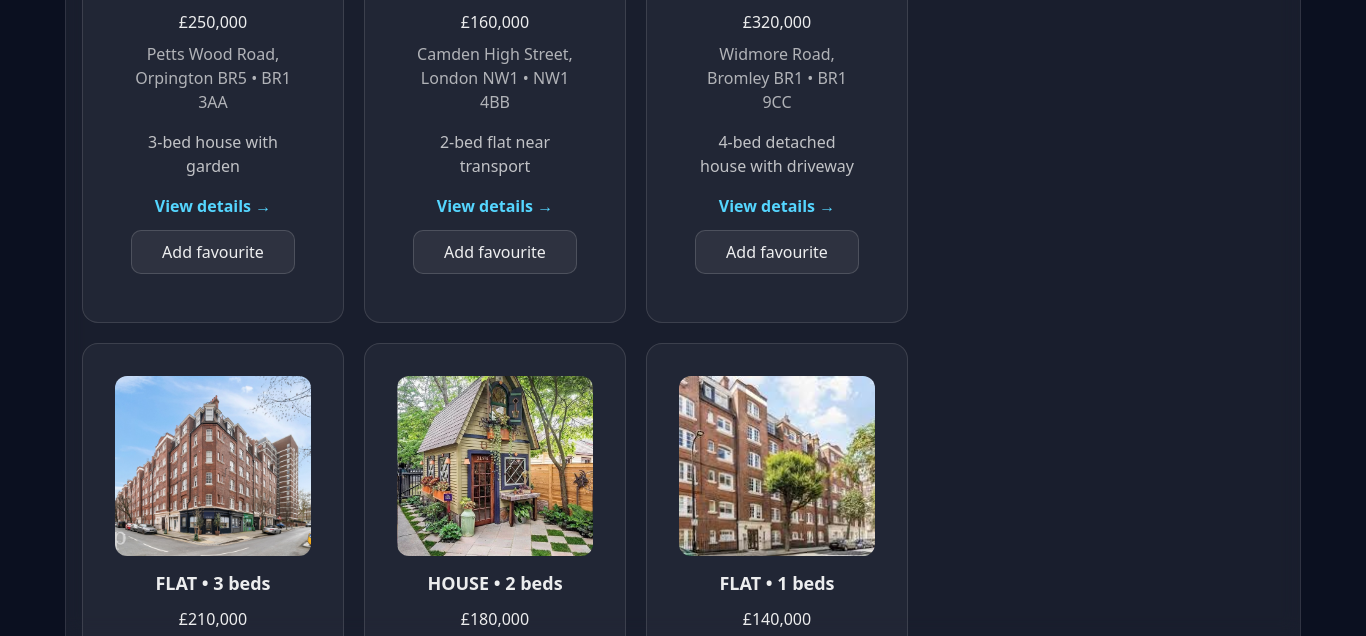
Test case: add favourite works
The width and height of the screenshot is (1366, 636).
(page scrolled)
Click the button with test id "fav-btn-p1": (213, 252) [131, 230, 295, 274]
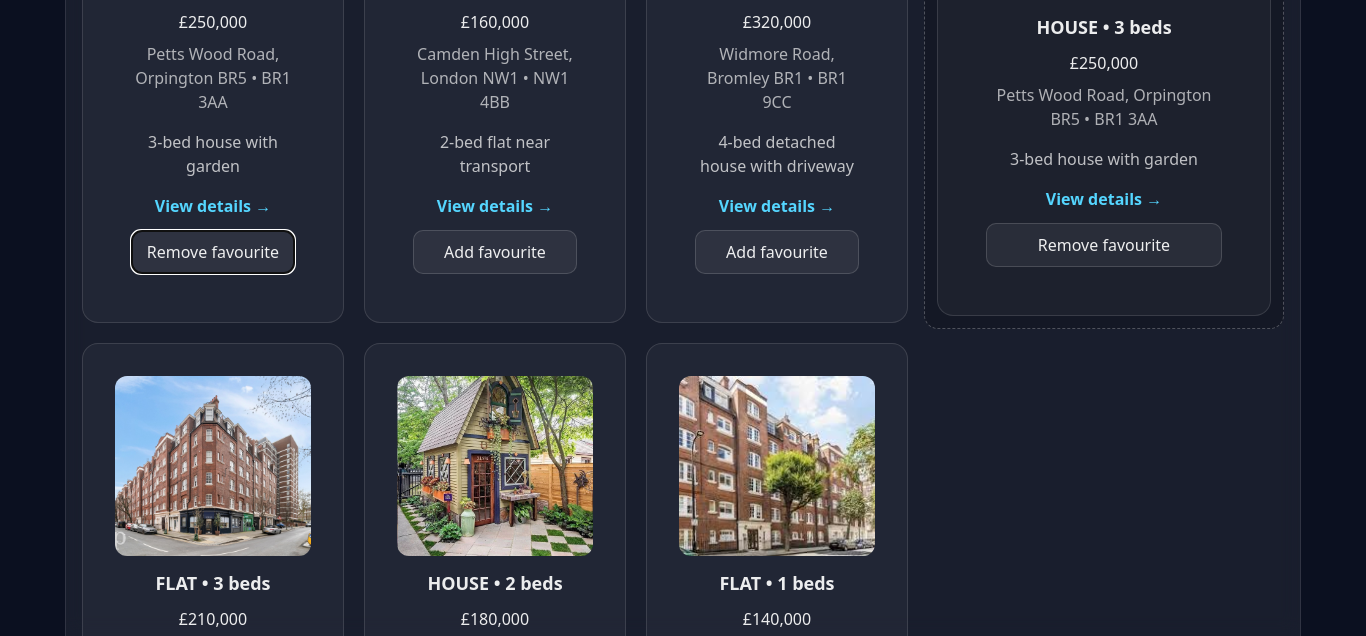
Expected: the button with test id "fav-btn-p1" below "2-bed flat near transport" reads "Remove favourite", [131, 230, 295, 274]
